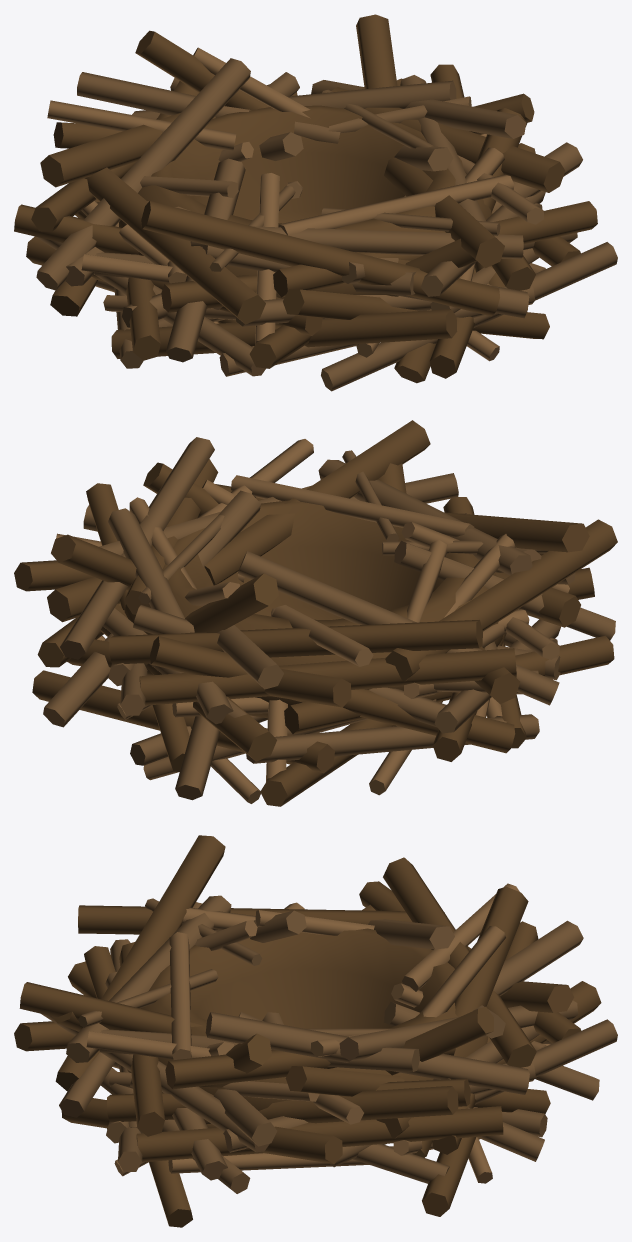
The model's file is SM_Props_BirdsNestEmpty_01.obj.
3 renders of one model, top to bottom at view 1: azimuth 30°, elevation 25°; view 2: azimuth 150°, elevation 25°; view 3: azimuth 270°, elevation 25°, orthographic. The views are drawn at different scales.
Parts seen in each view (by area): view 1: SM_Props_BirdsNestEmpty_01_Mat_SwatchOverlay_Farm_01_WoodB_Inst; view 2: SM_Props_BirdsNestEmpty_01_Mat_SwatchOverlay_Farm_01_WoodB_Inst; view 3: SM_Props_BirdsNestEmpty_01_Mat_SwatchOverlay_Farm_01_WoodB_Inst.
Part boxes in pixels (x1,y1,x2,y2): SM_Props_BirdsNestEmpty_01_Mat_SwatchOverlay_Farm_01_WoodB_Inst: [14, 14, 617, 391]; SM_Props_BirdsNestEmpty_01_Mat_SwatchOverlay_Farm_01_WoodB_Inst: [14, 420, 617, 806]; SM_Props_BirdsNestEmpty_01_Mat_SwatchOverlay_Farm_01_WoodB_Inst: [14, 835, 617, 1227].
Size of the model in its own units: 0.6906 by 0.3194 by 0.7255.
1 material, 1 textured.
